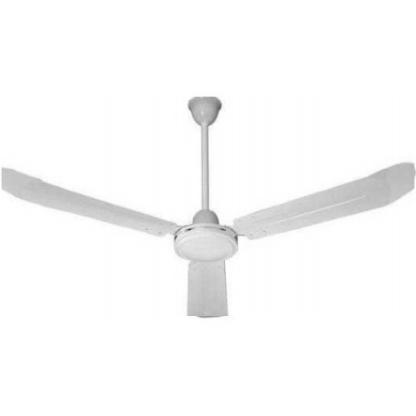ceiling-fan: (2, 97, 415, 317)
